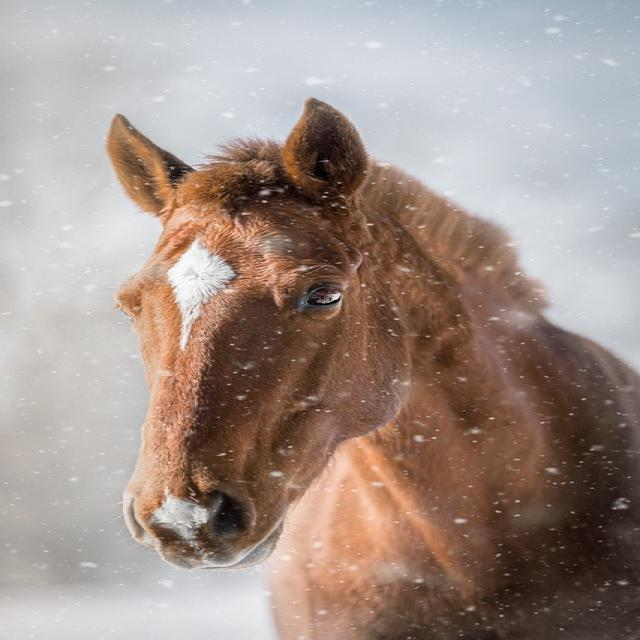Herbivorous: (103, 100, 640, 640)
